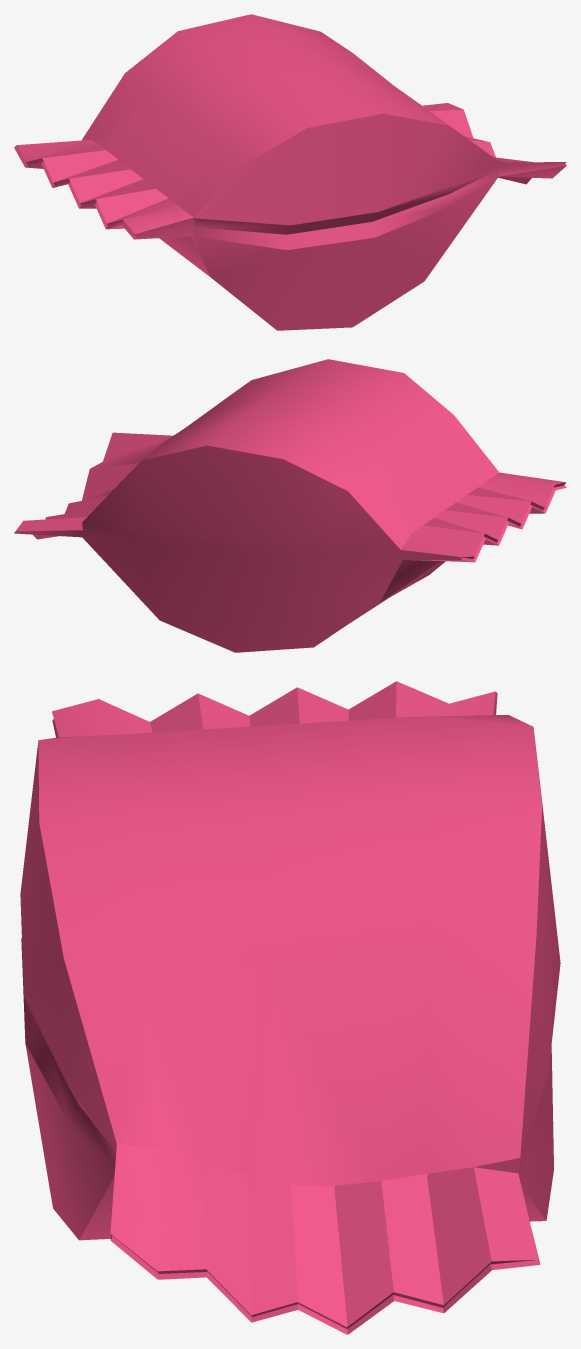
File: SM_Candies2.fbx
3 views of the same model, one above another, from view 1: azimuth 30°, elevation 25°; view 2: azimuth 150°, elevation 25°; view 3: azimuth 270°, elevation 25° (orthographic). The views are drawn at different scales.
Parts seen in each view (by area): view 1: SM_Candies2_LOD0; view 2: SM_Candies2_LOD0; view 3: SM_Candies2_LOD0.
Part boxes in pixels (x1,y1,x2,y2): SM_Candies2_LOD0: (14, 14, 566, 330); SM_Candies2_LOD0: (14, 359, 566, 652); SM_Candies2_LOD0: (20, 681, 560, 1334).
Bounding box in the file's own units: 7.87 × 4.11 × 3.68.
